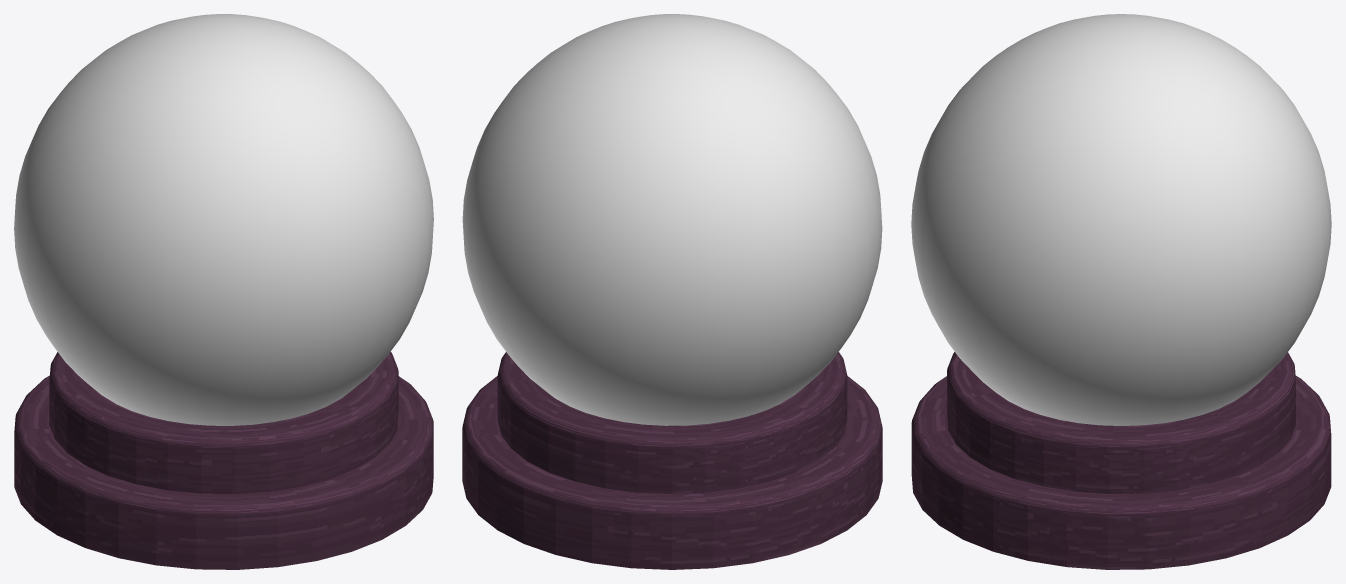
Rendered from crystal ball.fbx.
3 renders of one model, left to right at view 1: azimuth 30°, elevation 25°; view 2: azimuth 150°, elevation 25°; view 3: azimuth 270°, elevation 25°, orthographic.
Parts seen in each view (by area): view 1: Cristal ball; view 2: Cristal ball; view 3: Cristal ball.
Part boxes in pixels (x1,y1,x2,y2): Cristal ball: (14,14,433,569); Cristal ball: (462,14,882,569); Cristal ball: (911,14,1331,569).
Size of the model in its own units: 200 by 235 by 200.
Materials: 2 (1 with a texture image).
